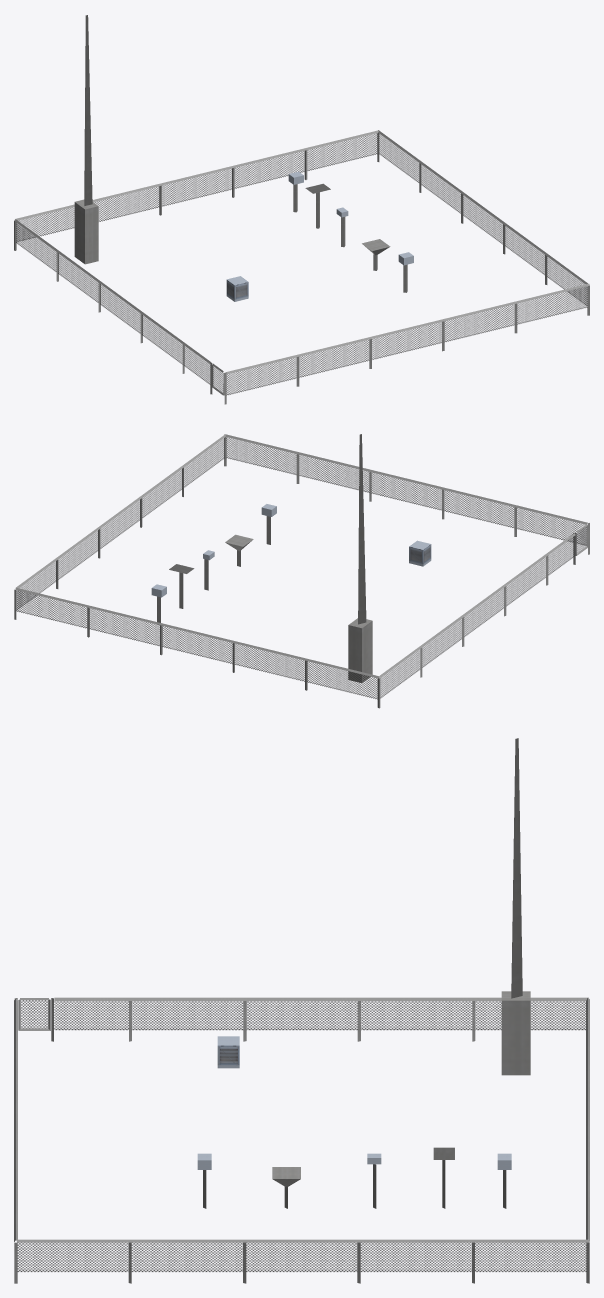
The model's file is weather-station-cbj_LOD02.gltf.
The picture shows the model from 3 angles, top to bottom: view 1: azimuth 30°, elevation 25°; view 2: azimuth 150°, elevation 25°; view 3: azimuth 270°, elevation 25°; orthographic projection. The views are drawn at different scales.
Parts seen in each view (by area): view 1: steven02; view 2: steven02; view 3: steven02.
Boxes of the visible parts, x1,y1,x2,y2 form: steven02: (14, 15, 589, 404); steven02: (14, 434, 589, 708); steven02: (14, 738, 589, 1283).
Bounding box in the file's own units: 16.04 × 10.22 × 16.03.
